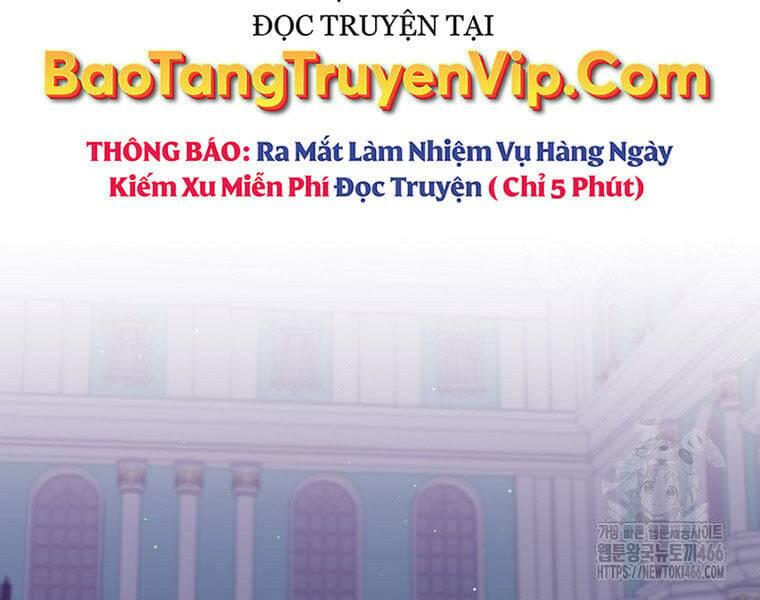quangcao: (43, 10, 713, 203)
